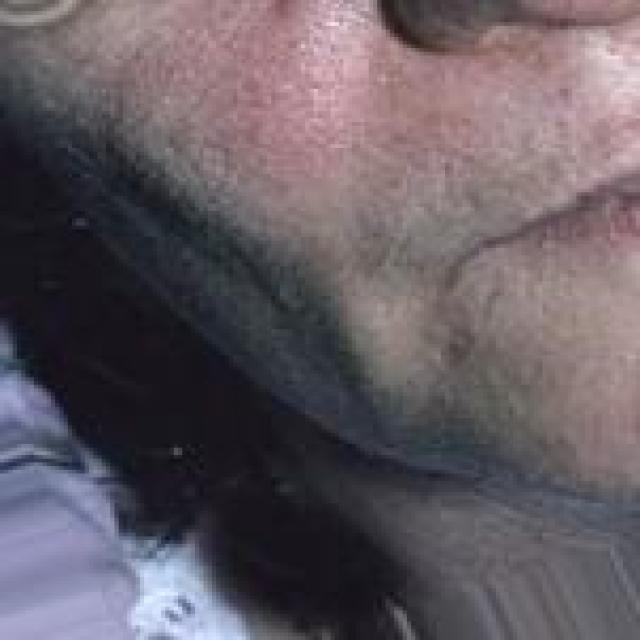Rosacea: (117, 0, 394, 181)
